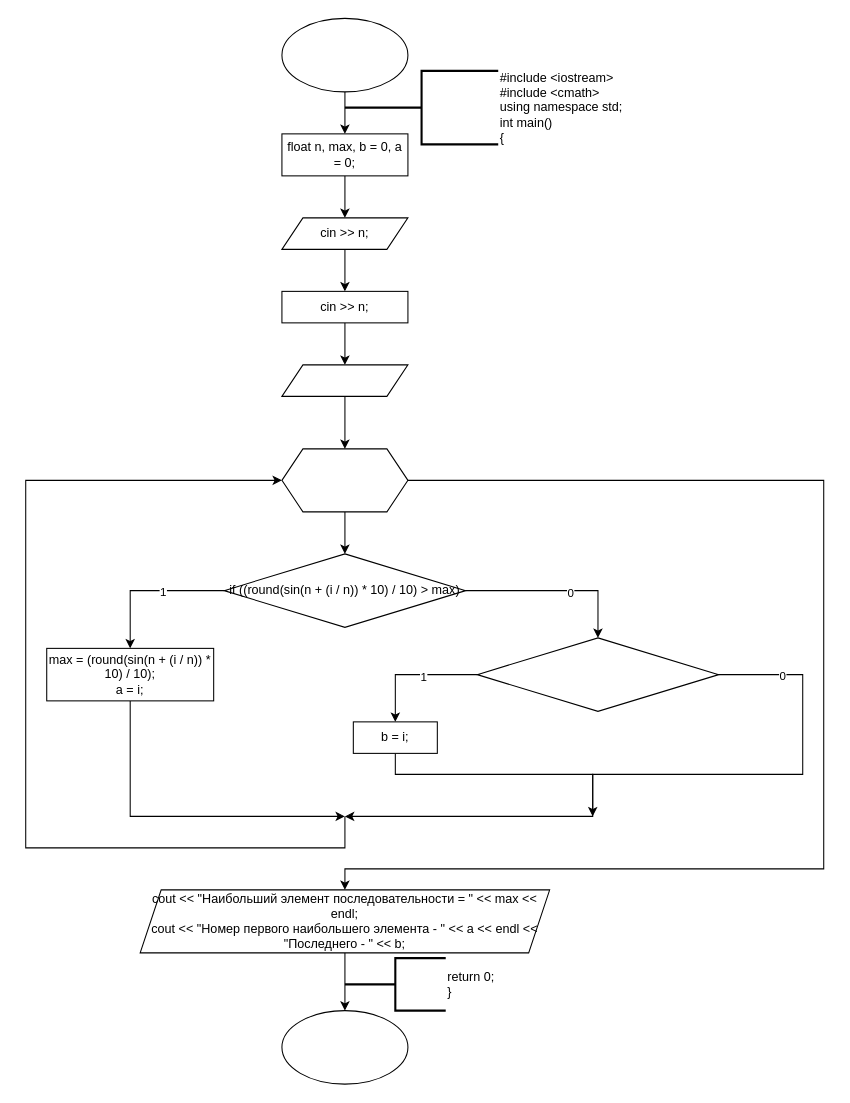
This 850x1103 diagram has some shape labels left out. Here are the shapes that lost their labels. From the top down, the centre of each, then its label:
the point at 344,54: Запуск
the point at 344,380: max = -1;
the point at 344,480: for (float i = 1; i <= n; i++)
the point at 597,674: if ((round(sin(n + (i / n)) * 10) / 10) == max)
the point at 344,1047: Конец
